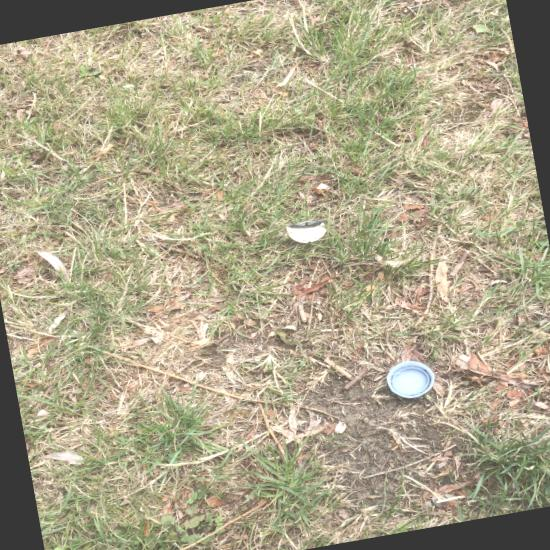Metal bottle cap: (286, 219, 326, 243)
Plastic bottle cap: (387, 360, 434, 398)
